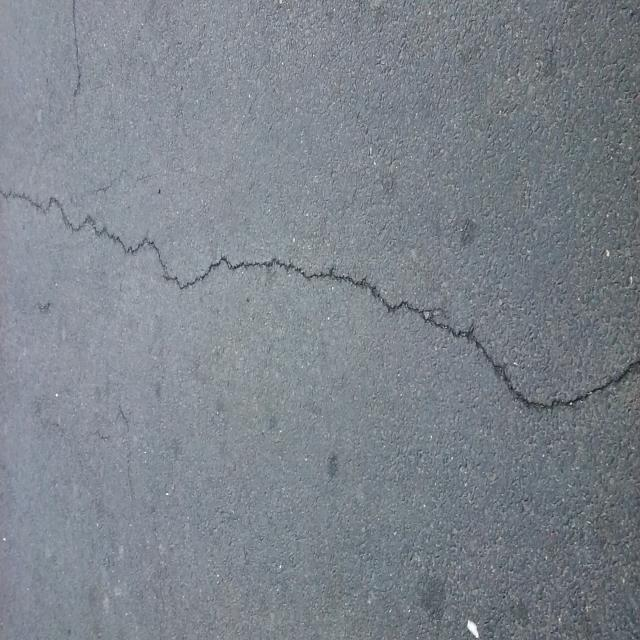transverse: (0, 150, 640, 429)
